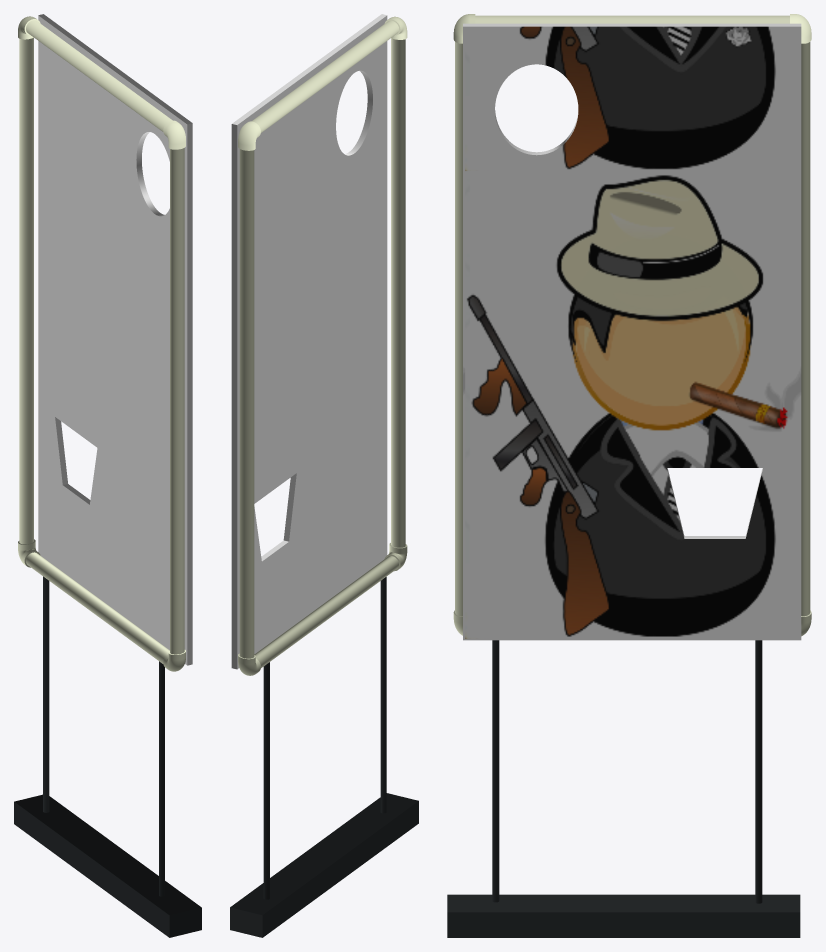
The model's file is torpedo_gman.dae.
3 views of the same model, side by side, from view 1: azimuth 30°, elevation 25°; view 2: azimuth 150°, elevation 25°; view 3: azimuth 270°, elevation 25° (orthographic). The views are drawn at different scales.
Visible parts, largest first — view 1: canvas, ballast_box, vert_right, vert_left, horiz_top, horiz_bottom, right_pole, left_pole, top_right; view 2: canvas, ballast_box, vert_left, vert_right, horiz_top, horiz_bottom, right_pole, left_pole, top_left; view 3: canvas, ballast_box, vert_left, vert_right, horiz_top, right_pole, left_pole.
Part boxes in pixels (bbox=[...]): canvas: bbox=[38, 14, 192, 665]; ballast_box: bbox=[14, 794, 201, 937]; vert_right: bbox=[170, 148, 184, 654]; vert_left: bbox=[19, 37, 33, 544]; horiz_top: bbox=[26, 20, 172, 131]; horiz_bottom: bbox=[26, 552, 169, 663]; right_pole: bbox=[43, 576, 49, 812]; left_pole: bbox=[159, 661, 164, 896]; top_right: bbox=[163, 120, 185, 149]; canvas: bbox=[231, 14, 387, 669]; ballast_box: bbox=[230, 793, 418, 937]; vert_left: bbox=[239, 149, 254, 658]; vert_right: bbox=[391, 38, 405, 547]; horiz_top: bbox=[251, 20, 398, 132]; horiz_bottom: bbox=[254, 556, 398, 667]; right_pole: bbox=[263, 662, 269, 899]; left_pole: bbox=[380, 577, 386, 813]; top_left: bbox=[238, 121, 260, 150]; canvas: bbox=[463, 23, 801, 640]; ballast_box: bbox=[447, 894, 800, 937]; vert_left: bbox=[801, 42, 810, 616]; vert_right: bbox=[455, 42, 462, 616]; horiz_top: bbox=[475, 15, 789, 23]; right_pole: bbox=[755, 640, 762, 903]; left_pole: bbox=[492, 640, 499, 902].
Size of the model in its own units: 0.0762 by 0.6555 by 1.81.
Materials: 4 (1 with a texture image).
